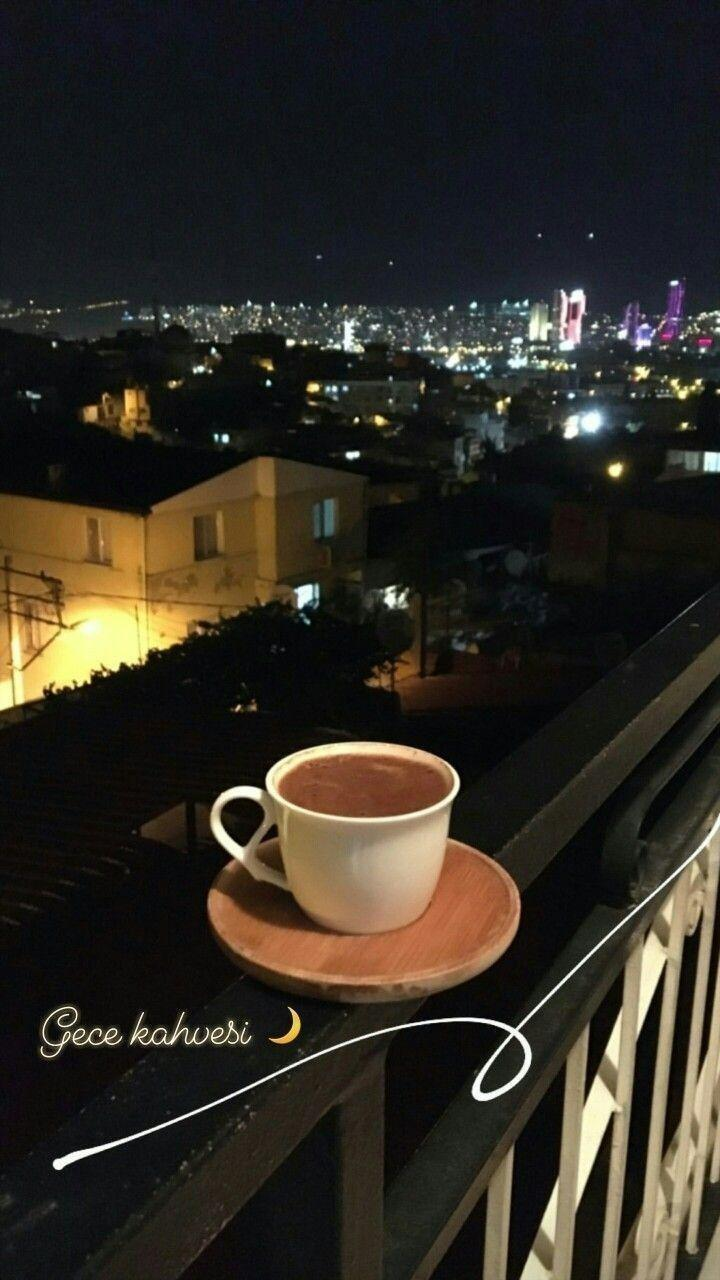cup-handle: (210, 739, 461, 935)
